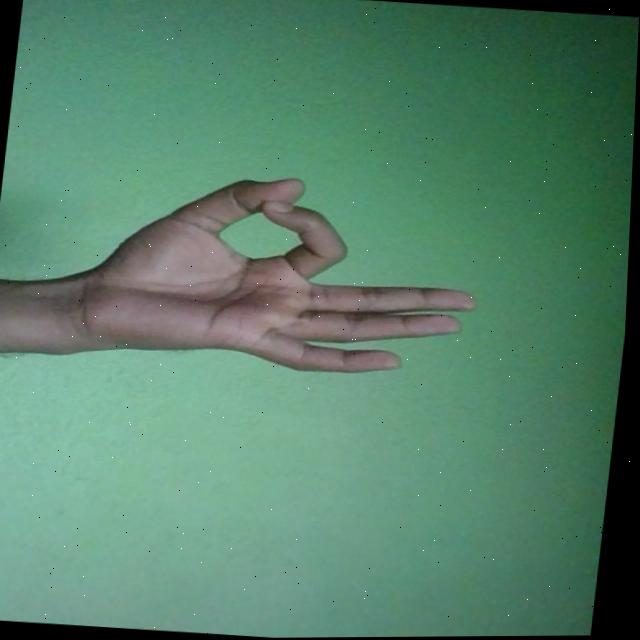Ok: (71, 164, 492, 385)
